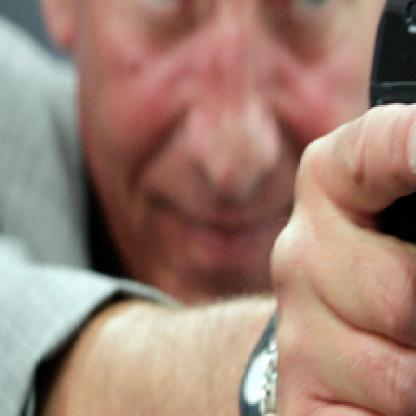gun: (326, 0, 415, 392)
